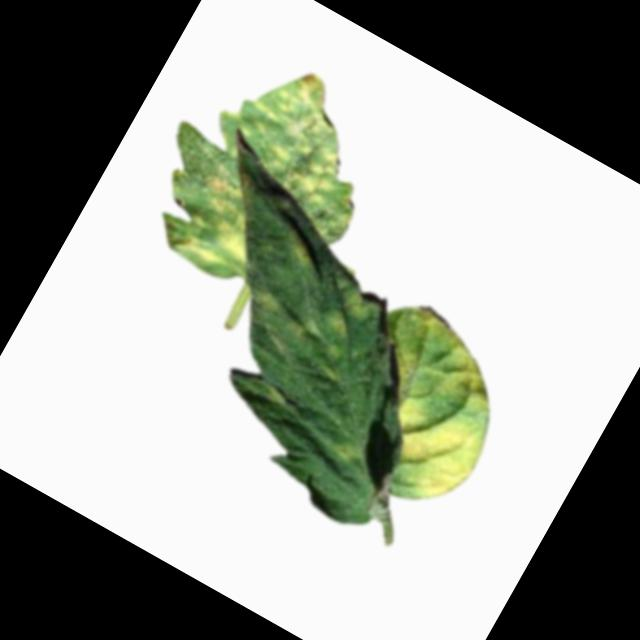Leaf_Mold: (221, 52, 382, 214), (385, 303, 522, 424), (366, 387, 494, 512), (168, 162, 284, 285), (283, 296, 359, 363), (276, 225, 329, 272), (330, 423, 375, 469), (334, 285, 381, 329), (245, 283, 287, 322)
